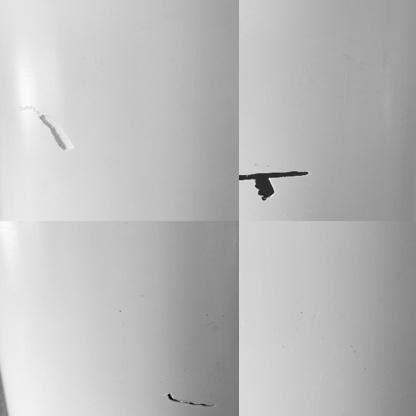fengxi: (164, 391, 217, 409), (238, 170, 314, 180)
kongdong: (254, 179, 282, 203)
sunshang: (29, 102, 77, 155)
